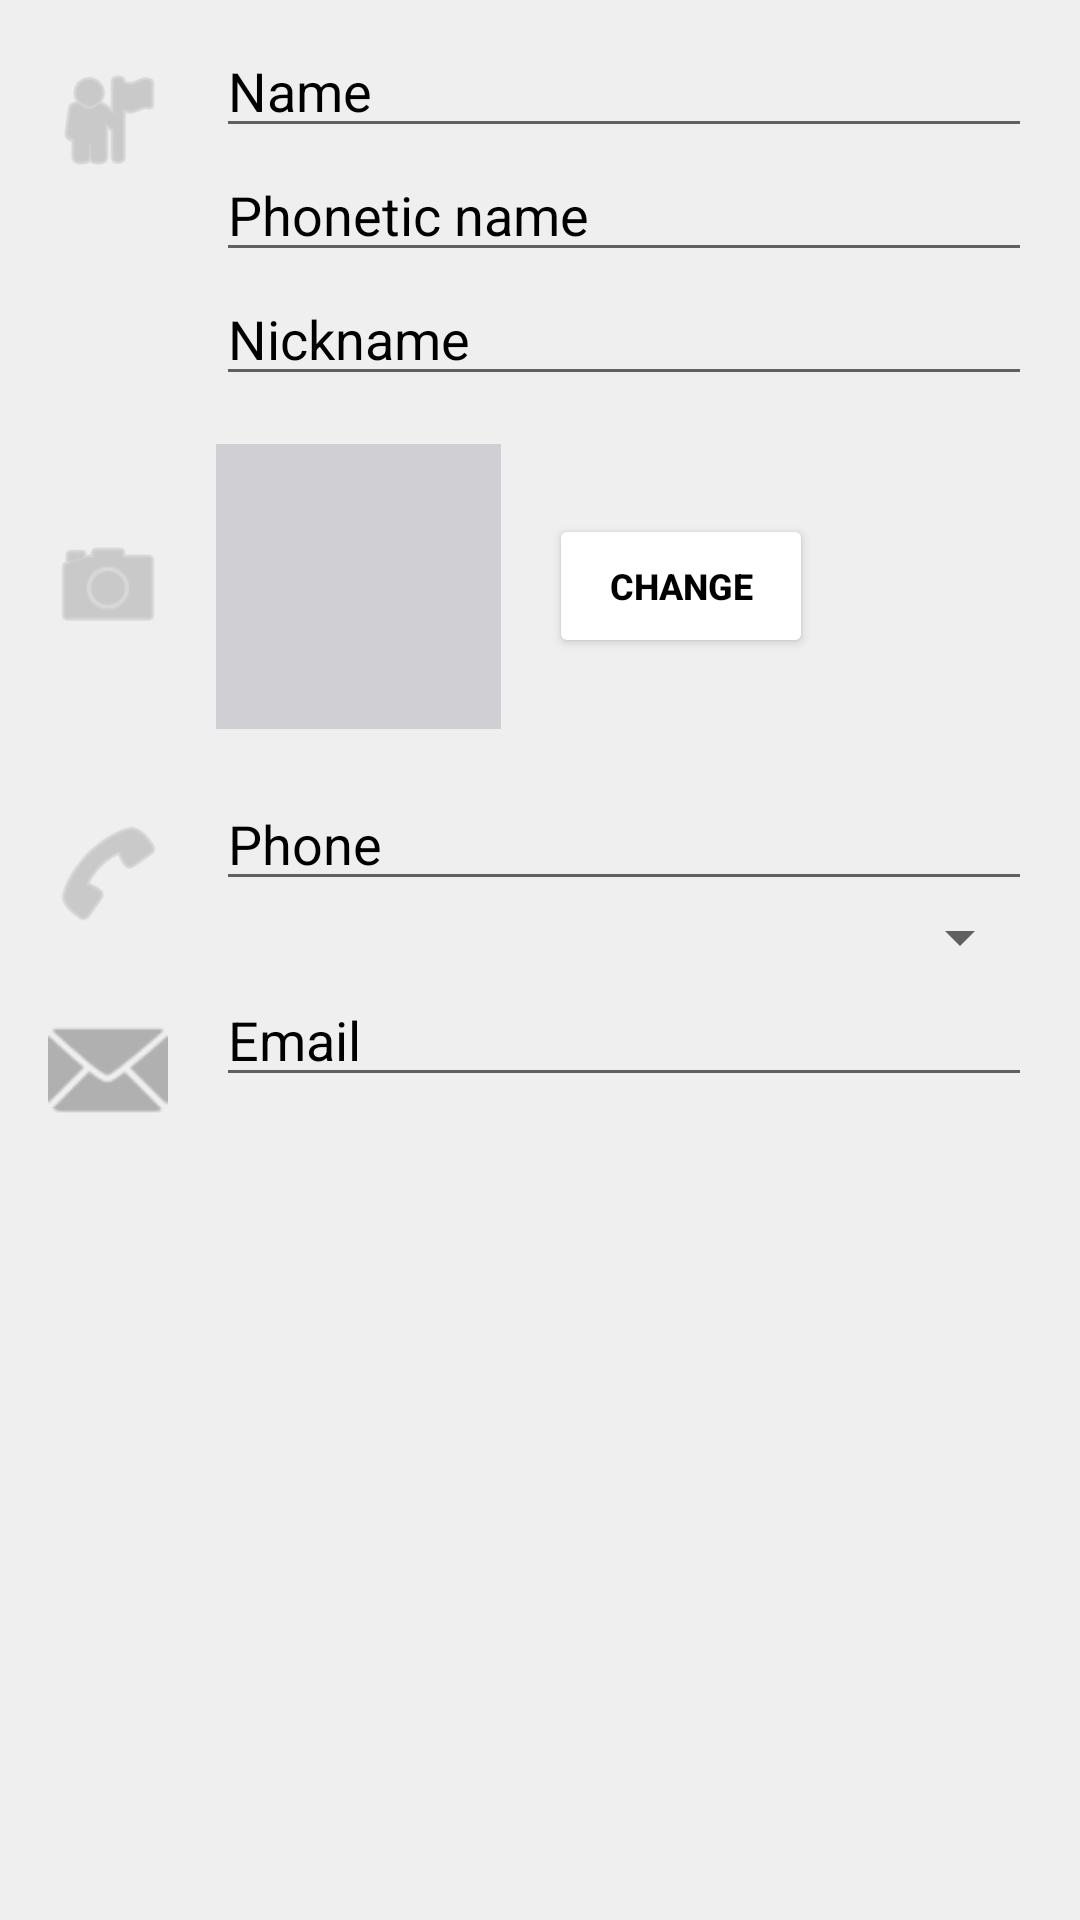

Point at icon controls on the screen. Image size 1080px x 1920px, points as [x,y].
call: [109,873]
camera: [108,584]
myplaces: [109,120]
